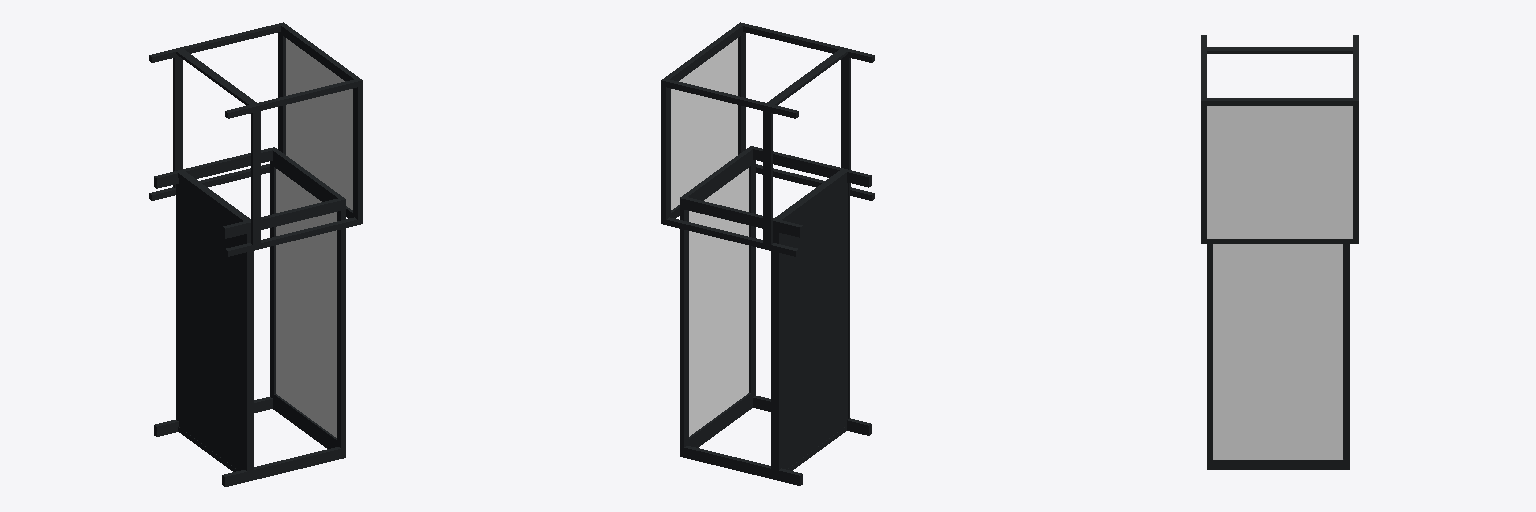
The model's file is CoffeeAndSideTable_Vittsjo.obj.
3 views of the same model, side by side, from view 1: azimuth 30°, elevation 25°; view 2: azimuth 150°, elevation 25°; view 3: azimuth 270°, elevation 25° (orthographic).
Visible parts, largest first — view 1: obj_0; view 2: obj_0; view 3: obj_0.
Boxes of the visible parts, x1,y1,x2,y2 form: obj_0: [149, 22, 362, 486]; obj_0: [661, 22, 874, 485]; obj_0: [1201, 35, 1358, 469].
Bounding box in the file's own units: 49 × 131 × 50.